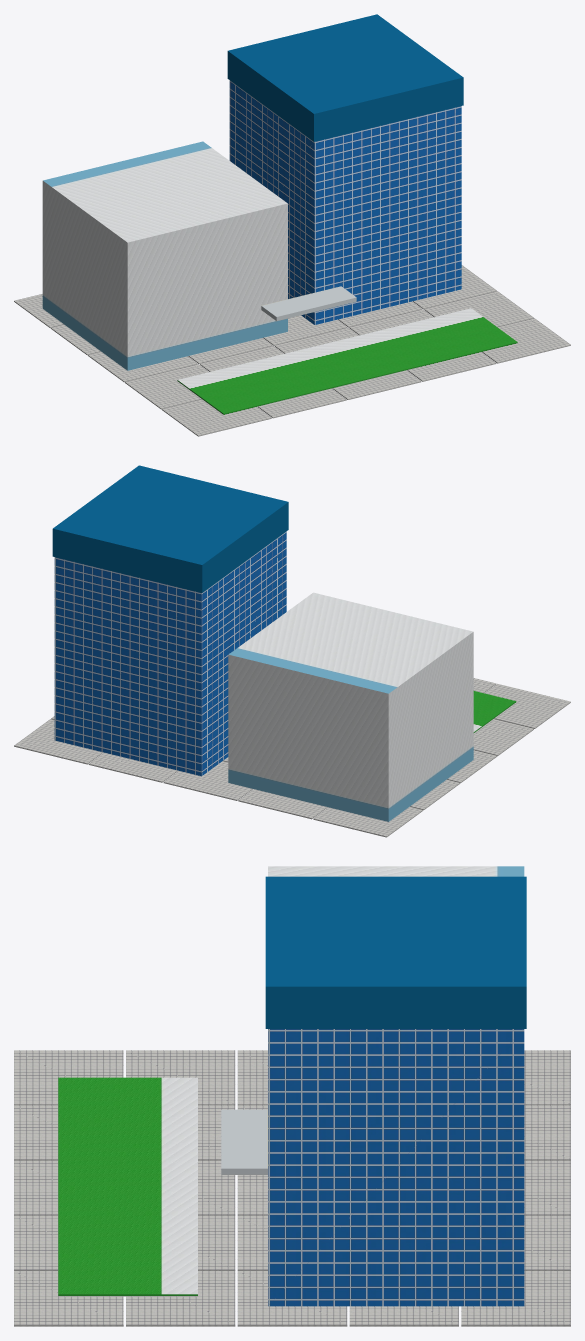
The picture shows the model from 3 angles, top to bottom: view 1: azimuth 30°, elevation 25°; view 2: azimuth 150°, elevation 25°; view 3: azimuth 270°, elevation 25°; orthographic projection. The views are drawn at different scales.
Visible parts, largest first — view 1: 28185_B37_BioNote_Songdo_RND_Center; view 2: 28185_B37_BioNote_Songdo_RND_Center; view 3: 28185_B37_BioNote_Songdo_RND_Center.
Part boxes in pixels (<box>): 28185_B37_BioNote_Songdo_RND_Center: <box>14,14,570,436</box>; 28185_B37_BioNote_Songdo_RND_Center: <box>14,465,570,837</box>; 28185_B37_BioNote_Songdo_RND_Center: <box>14,866,570,1326</box>.
Size of the model in its own units: 55.8 by 30.5 by 47.8.
Materials: 1 (1 with a texture image).
